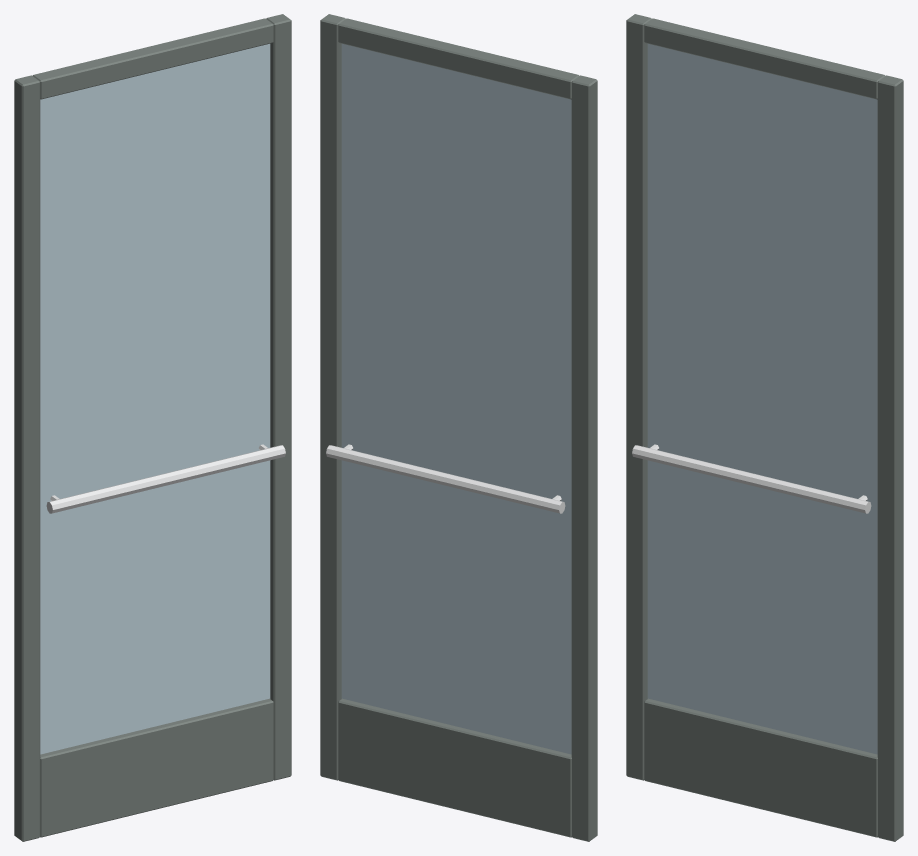
Rendered from door_terrace.glb.
3 renders of one model, left to right at view 1: azimuth 30°, elevation 25°; view 2: azimuth 150°, elevation 25°; view 3: azimuth 330°, elevation 25°, orthographic.
Visible parts, largest first — view 1: door_terrace_glass, door_terrace_frame, door_terrace_chrome; view 2: door_terrace_glass, door_terrace_frame, door_terrace_chrome; view 3: door_terrace_glass, door_terrace_frame, door_terrace_chrome.
Boxes of the visible parts, bbox=[...] form: door_terrace_glass: bbox=[40, 43, 270, 754]; door_terrace_frame: bbox=[14, 14, 291, 841]; door_terrace_chrome: bbox=[46, 444, 285, 513]; door_terrace_glass: bbox=[341, 43, 571, 754]; door_terrace_frame: bbox=[320, 14, 597, 841]; door_terrace_chrome: bbox=[326, 444, 565, 513]; door_terrace_glass: bbox=[647, 43, 877, 754]; door_terrace_frame: bbox=[626, 14, 903, 841]; door_terrace_chrome: bbox=[632, 444, 871, 513].
Size of the model in its own units: 0.88 by 2.36 by 0.186.
